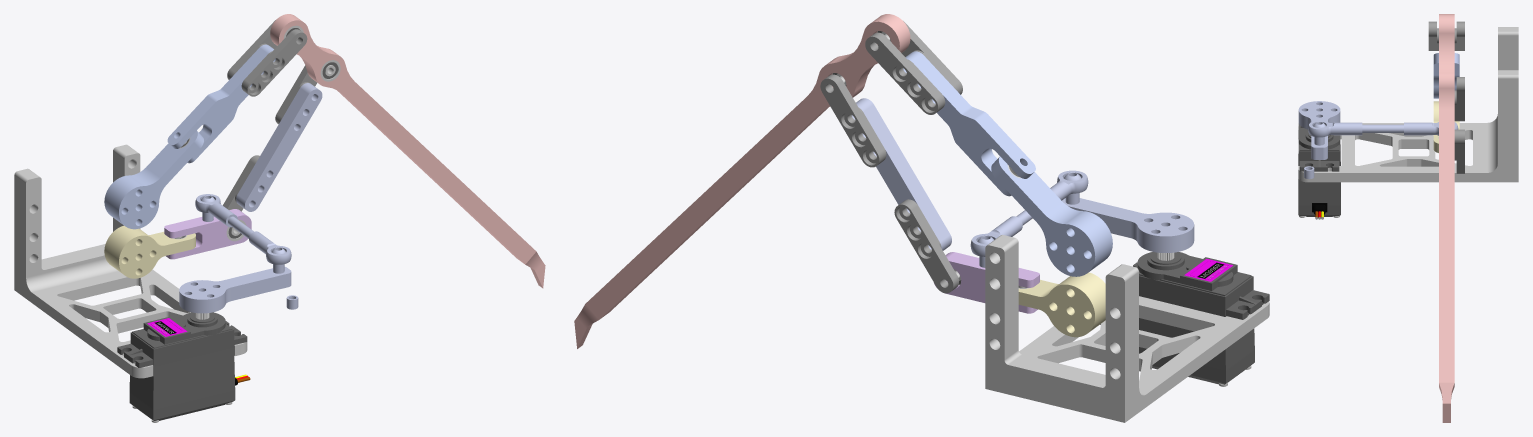
3 renders of one model, left to right at view 1: azimuth 30°, elevation 25°; view 2: azimuth 150°, elevation 25°; view 3: azimuth 270°, elevation 25°, orthographic. The views are drawn at different scales.
Parts seen in each view (by area): view 1: PRT - ServoHousing - LuLe-1, ProtoServo-3, PRT - LinkFive - LuLe-1, PRT - LinkFour - Lule-2, PRT - LinkSix - LuLe-1, PRT - LinkFour - Lule-3, PRT - LinkOne - LuLe-1, PRT - LinkThree - LuLe-1, PRT-LinkTwo-LuLe-1, PRT - OffsetLink - LuLe-2, PRT - M4 TieRod - LuLe-2, PRT - M4 TieRod - LuLe-3 (+3 smaller); view 2: PRT - ServoHousing - LuLe-1, PRT - LinkFive - LuLe-1, ProtoServo-3, PRT - LinkFour - Lule-2, PRT - LinkFour - Lule-3, PRT - LinkOne - LuLe-1, PRT - LinkThree - LuLe-1, PRT - LinkSix - LuLe-1, PRT - OffsetLink - LuLe-5, PRT - OffsetLink - LuLe-4, PRT - OffsetLink - LuLe-3, PRT-LinkTwo-LuLe-1 (+3 smaller); view 3: PRT - ServoHousing - LuLe-1, PRT - LinkFive - LuLe-1, ProtoServo-3, PRT - LinkThree - LuLe-1, PRT - M4 TieRod - LuLe-2, PRT - M4 TieRod - LuLe-3, PRT - OffsetLink - LuLe-5, PRT - OffsetLink - LuLe-4, PRT - LinkFour - Lule-2, PRT - M4 Threaded Rod - LuLe-1, PRT - OffsetLink - LuLe-3, PRT - OffsetLink - LuLe-2 (+1 smaller).
Part boxes in pixels (bbox=[...]): PRT - ServoHousing - LuLe-1: bbox=[14, 144, 247, 378]; ProtoServo-3: bbox=[117, 312, 250, 422]; PRT - LinkFive - LuLe-1: bbox=[270, 14, 545, 288]; PRT - LinkFour - Lule-2: bbox=[104, 130, 203, 229]; PRT - LinkSix - LuLe-1: bbox=[236, 83, 322, 211]; PRT - LinkFour - Lule-3: bbox=[167, 44, 275, 163]; PRT - LinkOne - LuLe-1: bbox=[104, 225, 195, 278]; PRT - LinkThree - LuLe-1: bbox=[179, 267, 291, 313]; PRT-LinkTwo-LuLe-1: bbox=[164, 209, 251, 259]; PRT - OffsetLink - LuLe-2: bbox=[241, 29, 307, 96]; PRT - M4 TieRod - LuLe-2: bbox=[249, 231, 291, 264]; PRT - M4 TieRod - LuLe-3: bbox=[195, 194, 237, 227]; PRT - ServoHousing - LuLe-1: bbox=[985, 235, 1269, 422]; PRT - LinkFive - LuLe-1: bbox=[574, 14, 910, 348]; ProtoServo-3: bbox=[1133, 252, 1269, 386]; PRT - LinkFour - Lule-2: bbox=[991, 156, 1112, 276]; PRT - LinkFour - Lule-3: bbox=[903, 51, 1035, 196]; PRT - LinkOne - LuLe-1: bbox=[1018, 272, 1105, 337]; PRT - LinkThree - LuLe-1: bbox=[1062, 198, 1194, 252]; PRT - LinkSix - LuLe-1: bbox=[851, 98, 951, 250]; PRT - OffsetLink - LuLe-5: bbox=[894, 199, 958, 293]; PRT - OffsetLink - LuLe-4: bbox=[820, 74, 886, 167]; PRT - OffsetLink - LuLe-3: bbox=[865, 32, 945, 114]; PRT-LinkTwo-LuLe-1: bbox=[934, 252, 1039, 313]; PRT - ServoHousing - LuLe-1: bbox=[1298, 27, 1518, 182]; PRT - LinkFive - LuLe-1: bbox=[1439, 14, 1454, 422]; ProtoServo-3: bbox=[1298, 123, 1340, 219]; PRT - LinkThree - LuLe-1: bbox=[1298, 101, 1340, 159]; PRT - M4 TieRod - LuLe-2: bbox=[1308, 120, 1362, 137]; PRT - M4 TieRod - LuLe-3: bbox=[1404, 122, 1458, 135]; PRT - OffsetLink - LuLe-5: bbox=[1454, 129, 1464, 173]; PRT - OffsetLink - LuLe-4: bbox=[1454, 77, 1464, 121]; PRT - LinkFour - Lule-2: bbox=[1433, 53, 1459, 98]; PRT - M4 Threaded Rod - LuLe-1: bbox=[1362, 124, 1403, 132]; PRT - OffsetLink - LuLe-3: bbox=[1454, 21, 1464, 50]; PRT - OffsetLink - LuLe-2: bbox=[1428, 21, 1438, 50].
Size of the model in its own units: 0.2429 by 0.1571 by 0.1057.
